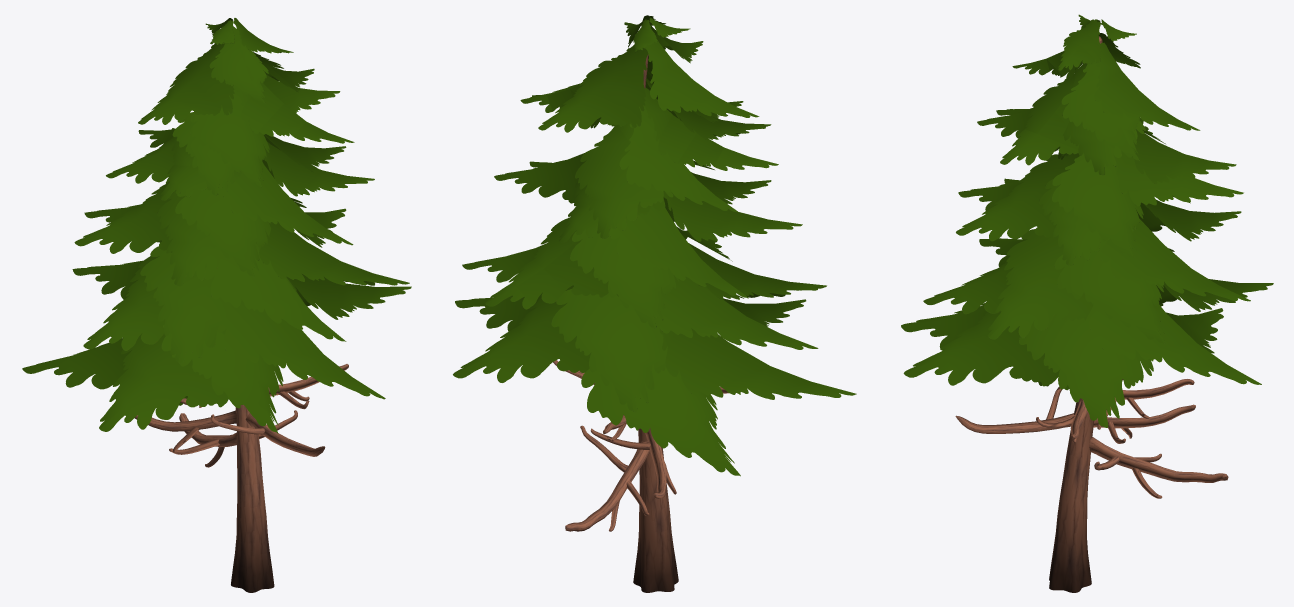
Rendered from Pine_1.gltf.
The picture shows the model from 3 angles, left to right: view 1: azimuth 30°, elevation 25°; view 2: azimuth 150°, elevation 25°; view 3: azimuth 270°, elevation 25°; orthographic projection. The views are drawn at different scales.
Parts seen in each view (by area): view 1: Pine_1; view 2: Pine_1; view 3: Pine_1.
Part boxes in pixels (x1,y1,x2,y2): Pine_1: (22,18,411,592); Pine_1: (453,15,856,592); Pine_1: (901,14,1273,592).
Size of the model in its own units: 4.94 by 7.32 by 4.54.
2 materials, 2 textured.
